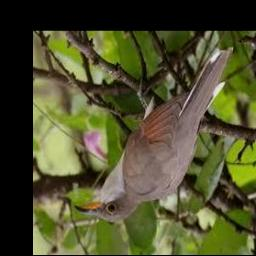Cuckoo: (74, 47, 233, 223)
